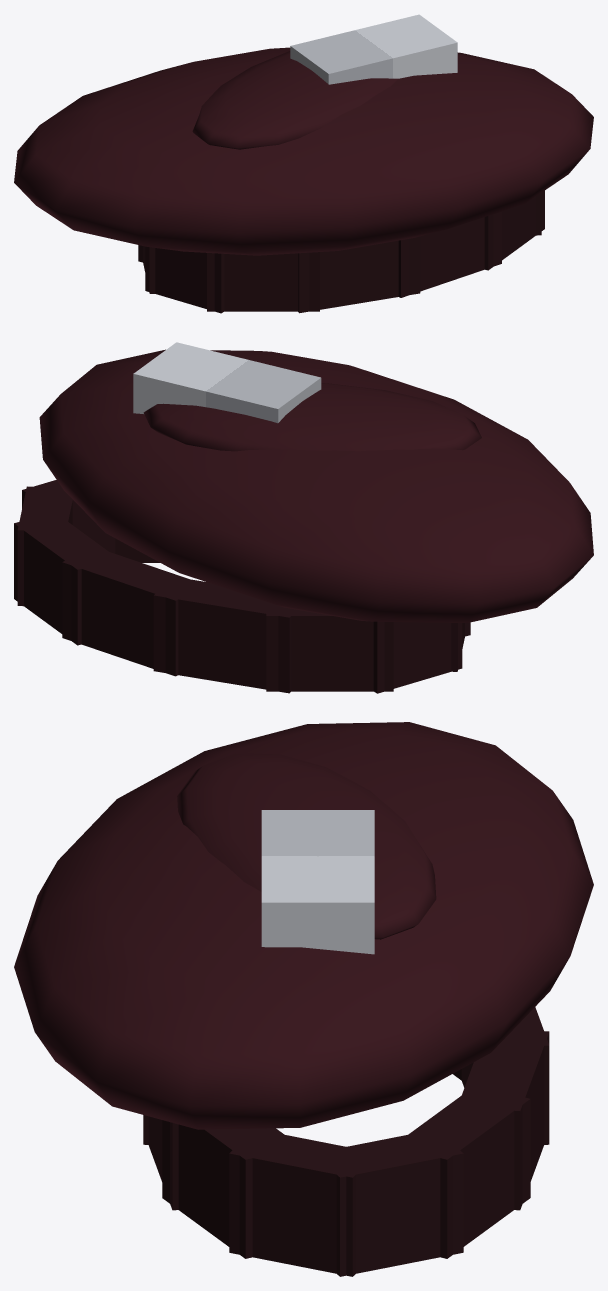
File: CMU3DRMCHeadBeretTSEWorldCloud.glb
The picture shows the model from 3 angles, top to bottom: view 1: azimuth 30°, elevation 25°; view 2: azimuth 150°, elevation 25°; view 3: azimuth 270°, elevation 25°; orthographic projection. The views are drawn at different scales.
Parts seen in each view (by area): view 1: continuous slumped felt crown, subtle broad upper cloth fold, original pale TSE badge, open underside felt band facet 08, open underside felt band facet 07, open underside felt band facet 09, open underside felt band facet 06, open underside felt band facet 10; view 2: continuous slumped felt crown, subtle broad upper cloth fold, open underside felt band facet 03, open underside felt band facet 02, original pale TSE badge, open underside felt band facet 04, open underside felt band facet 01, open underside felt band facet 05, open underside felt band facet 00, open underside felt band facet 11, open underside felt band facet 10; view 3: continuous slumped felt crown, subtle broad upper cloth fold, original pale TSE badge, open underside felt band facet 00, open underside felt band facet 11, open underside felt band facet 01, open underside felt band facet 10, open underside felt band facet 02, open underside felt band facet 09, open underside felt band facet 03.
Boxes of the visible parts, x1,y1,x2,y2 form: continuous slumped felt crown: (14,47,593,255); subtle broad upper cloth fold: (192,51,397,149); original pale TSE badge: (290,14,457,84); open underside felt band facet 08: (298,236,420,313); open underside felt band facet 07: (207,252,319,311); open underside felt band facet 09: (398,211,501,297); open underside felt band facet 06: (145,246,224,313); open underside felt band facet 10: (484,190,544,270); continuous slumped felt crown: (39,349,593,622); subtle broad upper cloth fold: (143,383,481,451); open underside felt band facet 03: (153,576,295,693); open underside felt band facet 02: (62,546,205,676); original pale TSE badge: (133,342,321,423); open underside felt band facet 04: (266,602,393,691); open underside felt band facet 01: (14,513,108,645); open underside felt band facet 05: (373,621,462,693); open underside felt band facet 00: (17,486,72,606); open underside felt band facet 11: (22,480,115,553); open underside felt band facet 10: (115,538,159,562); continuous slumped felt crown: (14,722,593,1129); subtle broad upper cloth fold: (177,753,436,939); original pale TSE badge: (261,810,374,954); open underside felt band facet 00: (314,1129,463,1276); open underside felt band facet 11: (229,1129,373,1276); open underside felt band facet 01: (392,1088,530,1258); open underside felt band facet 10: (162,1120,299,1258); open underside felt band facet 02: (457,1030,549,1210); open underside felt band facet 09: (148,1116,178,1210); open underside felt band facet 03: (461,1007,549,1144).
Size of the model in its own units: 0.2415 by 0.093 by 0.1642.
3 materials, 1 textured.
